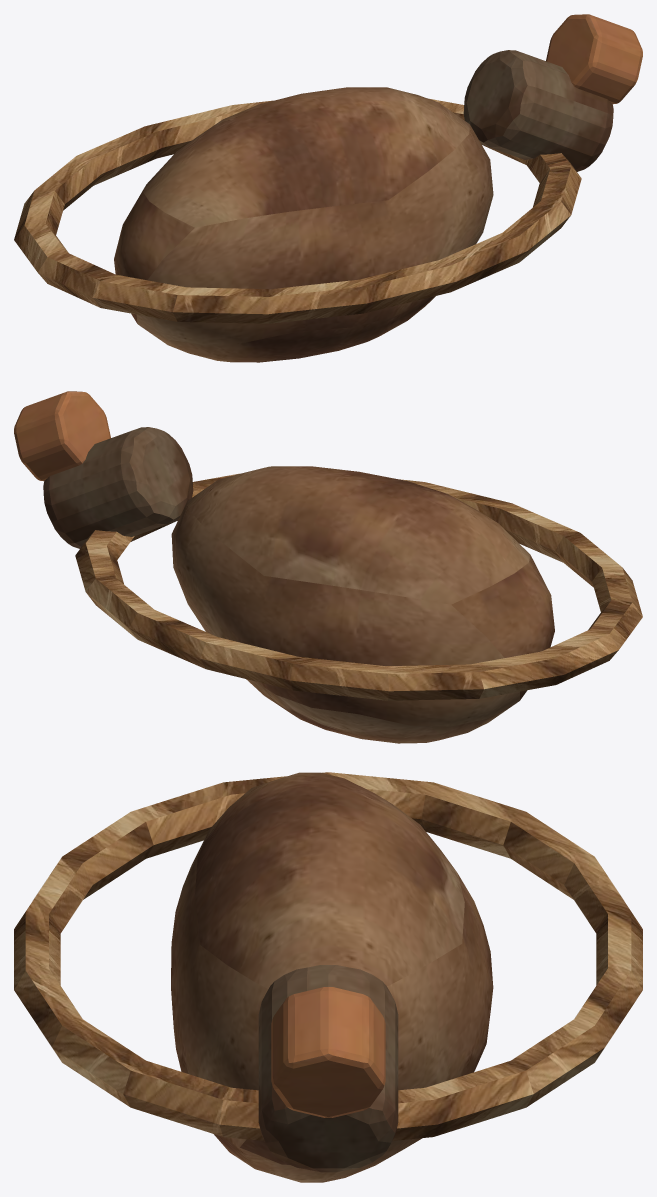
The model's file is waterskin_clean.glb.
3 renders of one model, top to bottom at view 1: azimuth 30°, elevation 25°; view 2: azimuth 150°, elevation 25°; view 3: azimuth 270°, elevation 25°, orthographic. The views are drawn at different scales.
Parts seen in each view (by area): view 1: model; view 2: model; view 3: model.
Boxes of the visible parts, bbox=[...] form: model: bbox=[14, 14, 642, 362]; model: bbox=[14, 391, 642, 743]; model: bbox=[14, 772, 642, 1182].
Bounding box in the file's own units: 0.3218 × 0.1336 × 0.2127.
4 materials, 4 textured.
